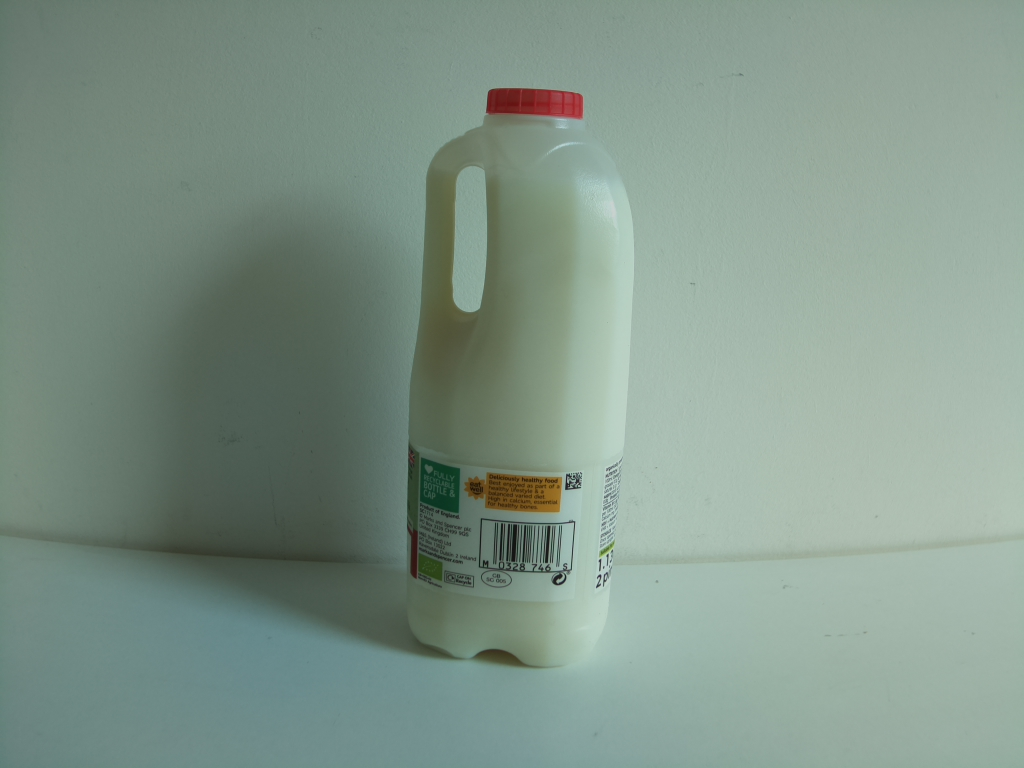milk: (394, 82, 638, 675)
